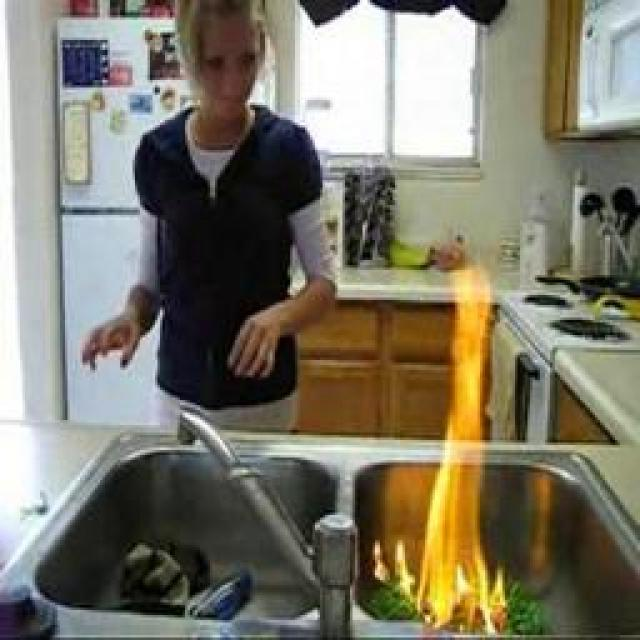Fire: (417, 270, 508, 631), (372, 540, 419, 591)
